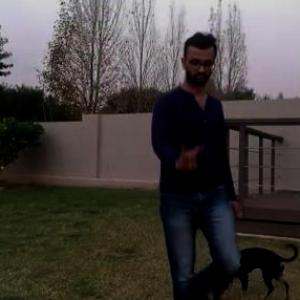takeoff-hand: (168, 138, 208, 174)
